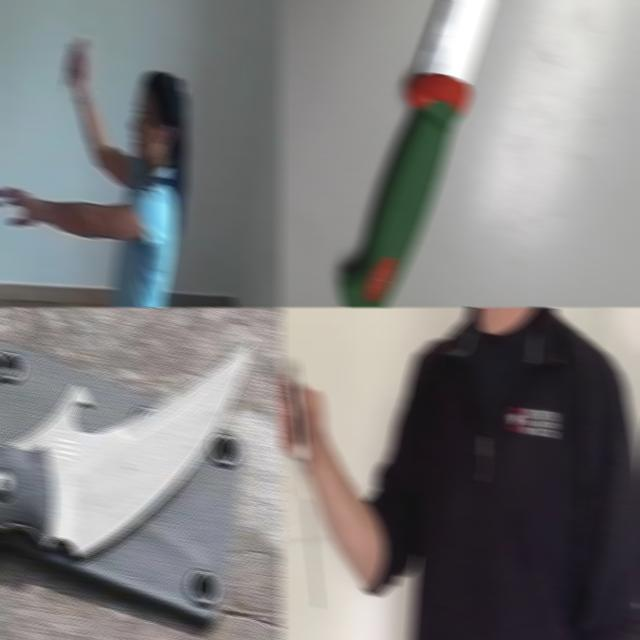Knife: (0, 337, 255, 553), (338, 0, 495, 307)
Knife_Handle: (279, 354, 326, 610), (61, 37, 92, 92), (62, 38, 91, 90)
